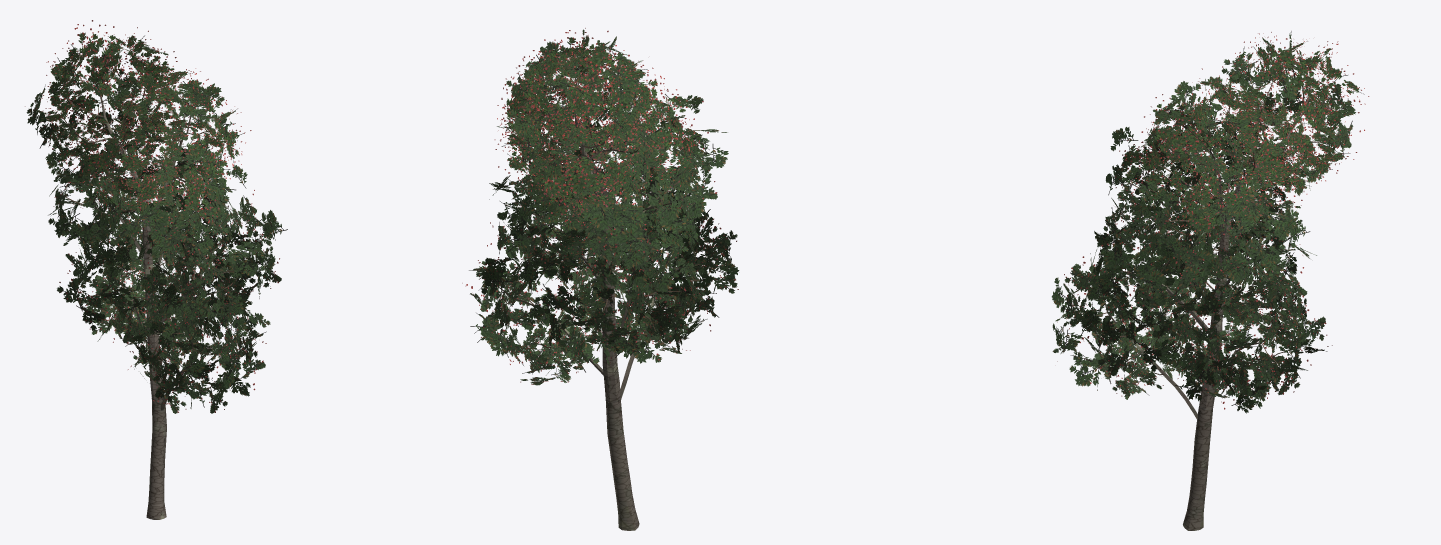
Rendered from rowan.glb.
3 views of the same model, side by side, from view 1: azimuth 30°, elevation 25°; view 2: azimuth 150°, elevation 25°; view 3: azimuth 270°, elevation 25° (orthographic). The views are drawn at different scales.
Parts seen in each view (by area): view 1: rowan_cards_LOD0, rowan_LOD0; view 2: rowan_cards_LOD0, rowan_LOD0; view 3: rowan_cards_LOD0, rowan_LOD0.
Part boxes in pixels (box(x1,y1,x2,y2)): rowan_cards_LOD0: box(25, 20, 287, 413); rowan_LOD0: box(61, 56, 250, 519); rowan_cards_LOD0: box(462, 28, 739, 385); rowan_LOD0: box(490, 59, 713, 530); rowan_cards_LOD0: box(1051, 31, 1369, 413); rowan_LOD0: box(1072, 60, 1336, 530).
Size of what is drawn, in the model's own units: 8.04 by 11.43 by 9.76.
2 materials, 2 textured.
